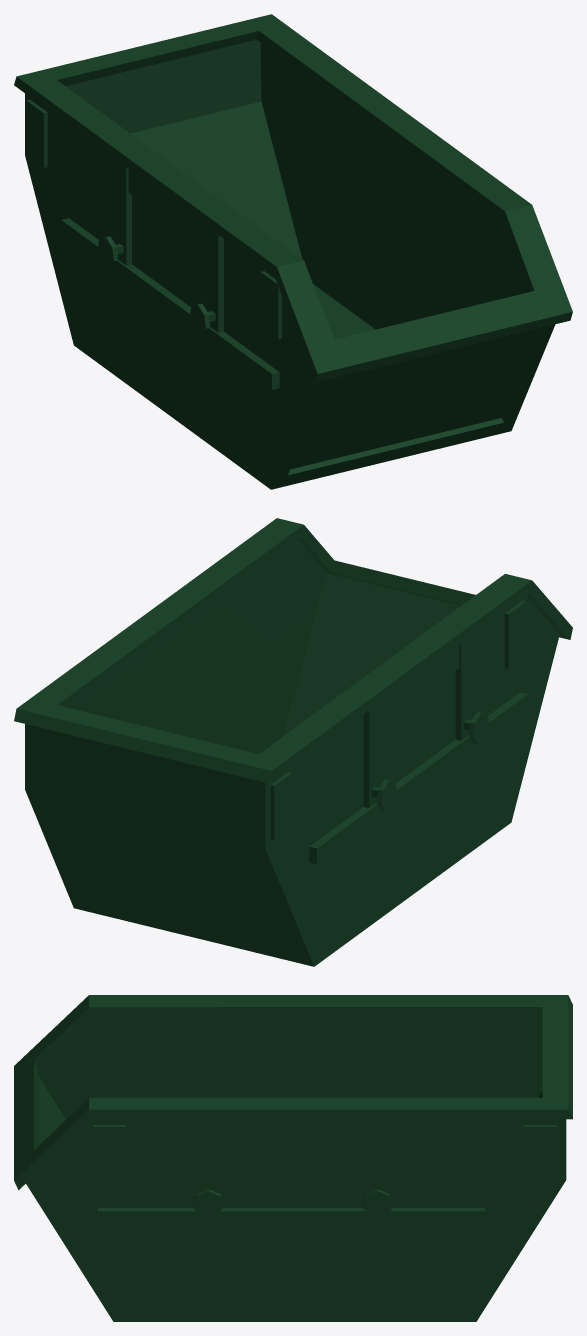
File: BigDumpster_Regular.fbx
The picture shows the model from 3 angles, top to bottom: view 1: azimuth 30°, elevation 25°; view 2: azimuth 150°, elevation 25°; view 3: azimuth 270°, elevation 25°; orthographic projection. The views are drawn at different scales.
Parts seen in each view (by area): view 1: BigDumpster_Regular; view 2: BigDumpster_Regular; view 3: BigDumpster_Regular.
Boxes of the visible parts, left/top/right/bottom form: BigDumpster_Regular: left=14, top=14, right=572, bottom=489; BigDumpster_Regular: left=14, top=518, right=572, bottom=966; BigDumpster_Regular: left=14, top=995, right=572, bottom=1321.
Size of the model in its own units: 210 by 166 by 389.
